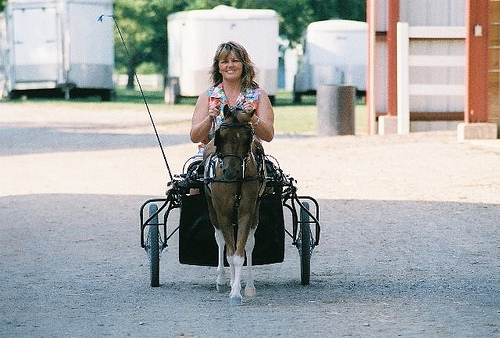horse: (204, 101, 267, 305)
